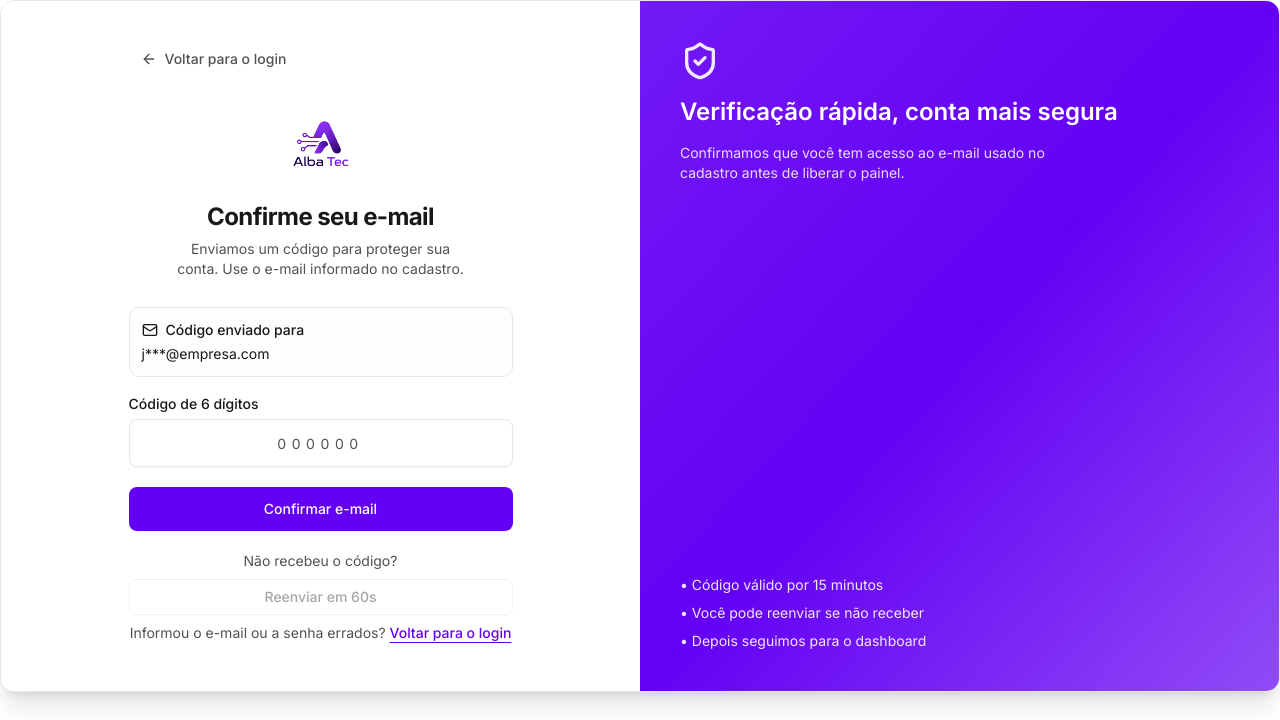
VerifyEmailForm › confirma o e-mail e redireciona ao dashboard
This screenshot has width=1280, height=720.
Type "654321" into the field labelled "Código de 6 dígitos".
click(320, 443); type("654321")  # box [128,419,512,467]
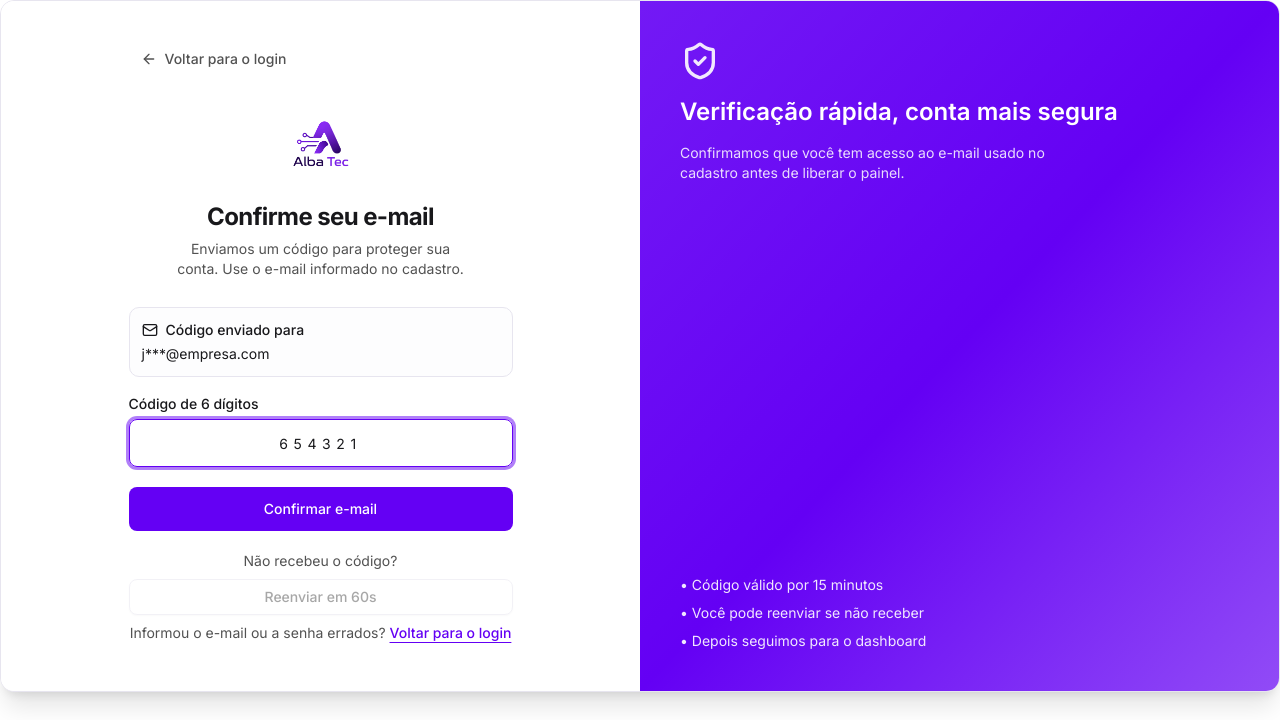
Click the button "Confirmar e-mail".
click(320, 509)  # box [128,487,512,531]
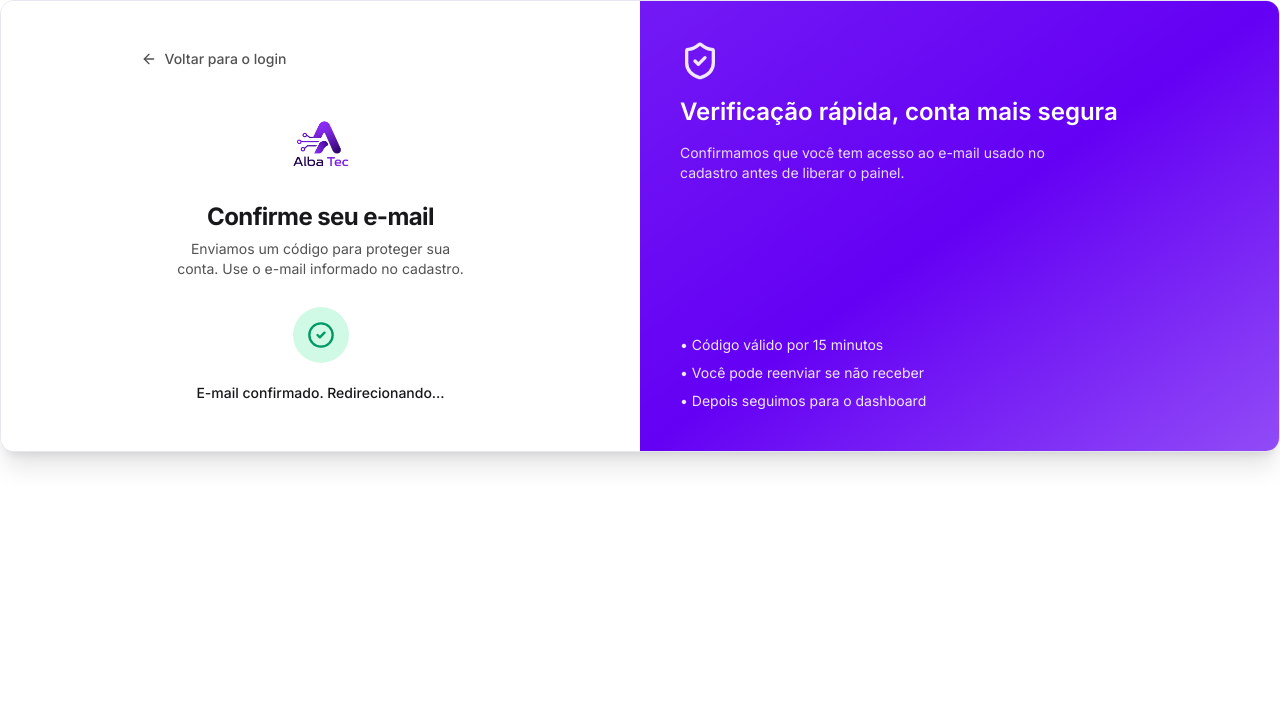
Expected: the text "E-mail confirmado. Redirecionando…" is shown, [196,383,445,403]
